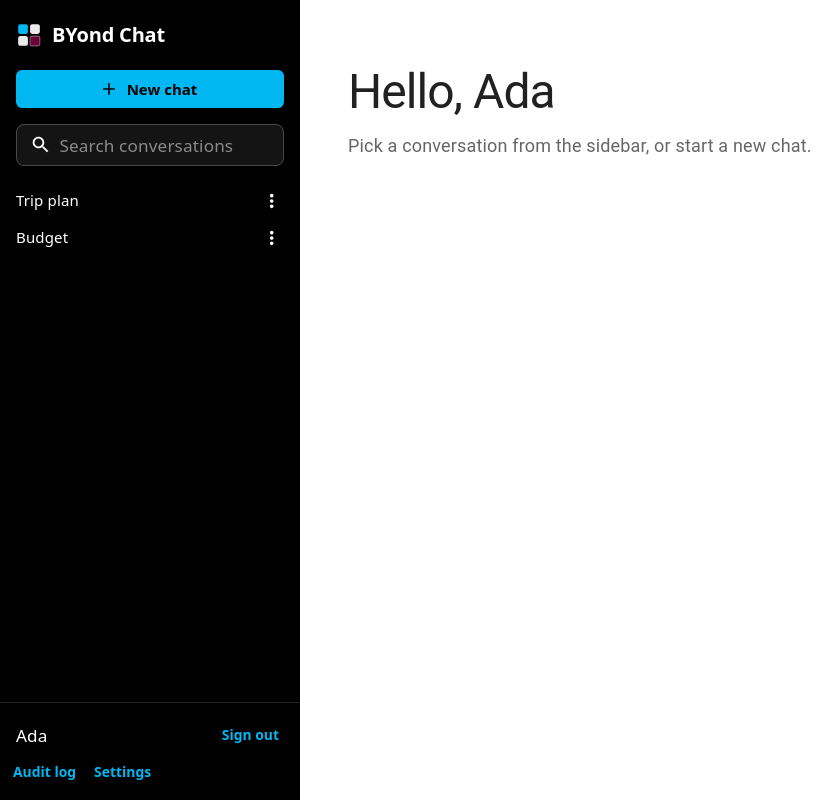
Test: conversations sidebar › searches after a pause in typing and shows only the matches
Expected: the text "Trip plan" is shown, [16,190,79,210]
In the field labelled "Search conversations": (172, 145) [59,124,284,166], type "budget"
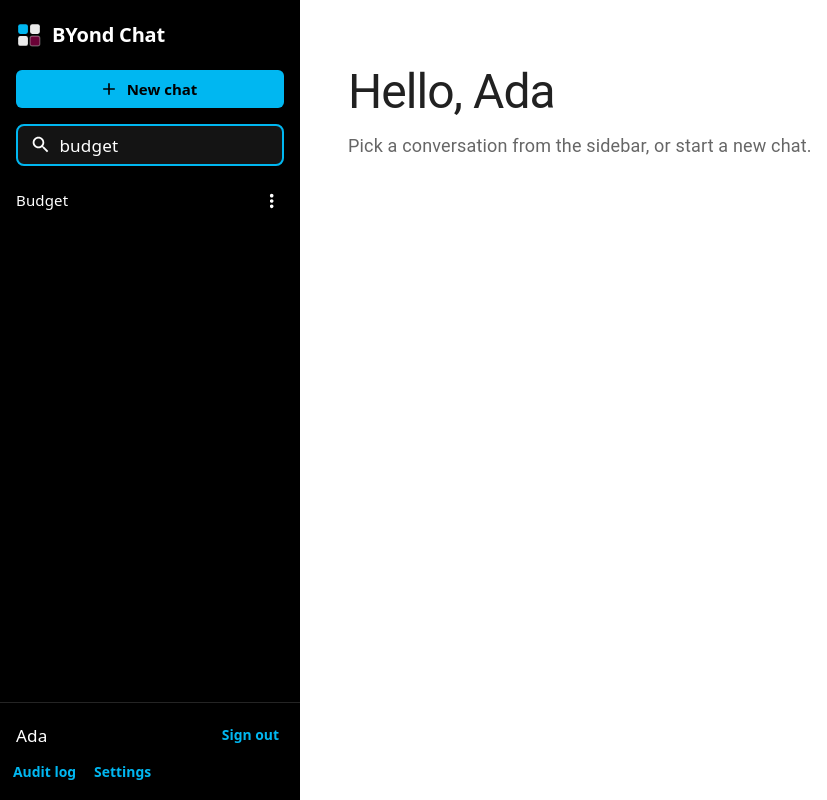
Expected: the text "Budget" is shown, [16,190,68,210]
Expected: the button "Trip plan" is gone
